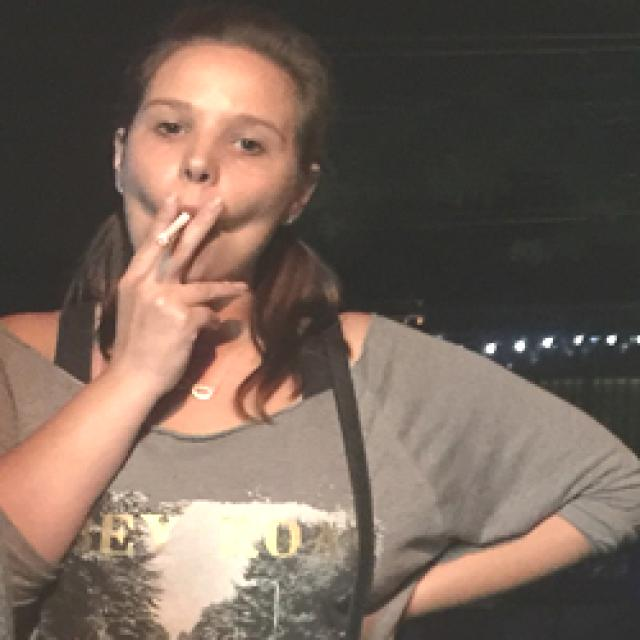Smooking: (142, 208, 204, 249)
